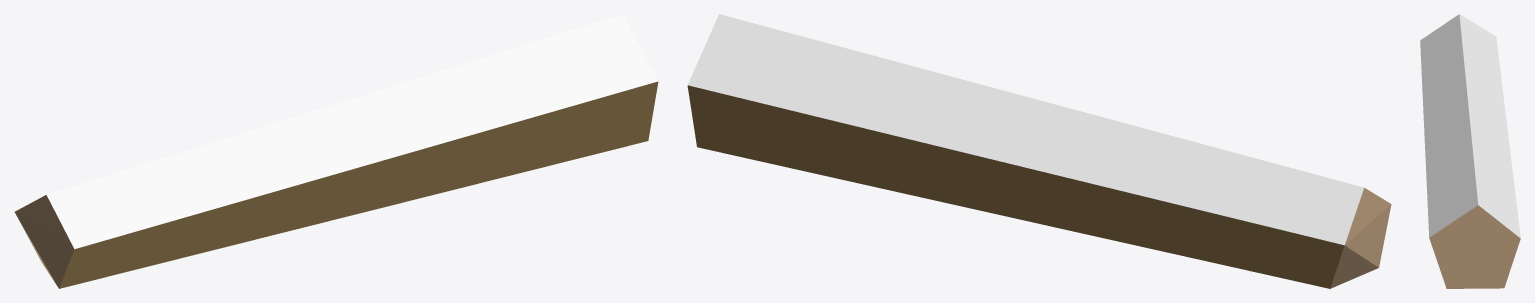
Rendered from Simple_Log_Snow_02_LOD.fbx.
3 views of the same model, side by side, from view 1: azimuth 30°, elevation 25°; view 2: azimuth 150°, elevation 25°; view 3: azimuth 270°, elevation 25° (orthographic). The views are drawn at different scales.
Visible parts, largest first — view 1: Simple_Log_Snow_02_LOD0; view 2: Simple_Log_Snow_02_LOD0; view 3: Simple_Log_Snow_02_LOD0.
Boxes of the visible parts, x1,y1,x2,y2 form: Simple_Log_Snow_02_LOD0: (14, 14, 658, 288); Simple_Log_Snow_02_LOD0: (687, 14, 1391, 288); Simple_Log_Snow_02_LOD0: (1420, 14, 1520, 288).
Size of what is drawn, in the model's own units: 125 by 22.33 by 24.71.
